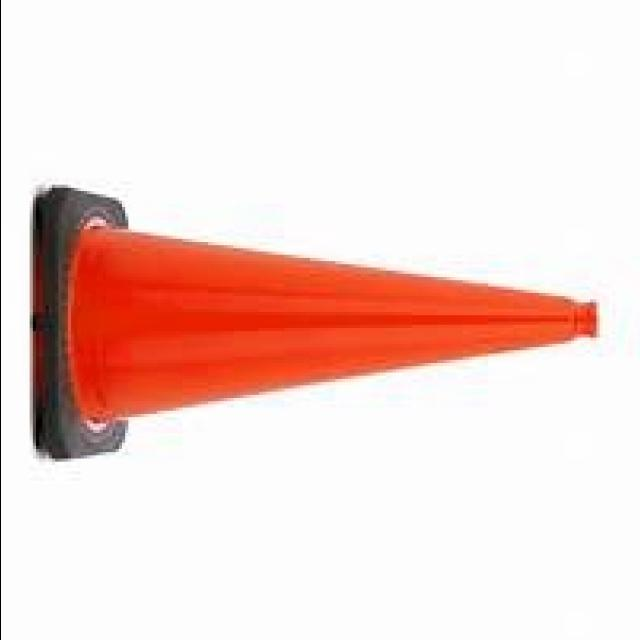traffic cone: (16, 181, 610, 480)
